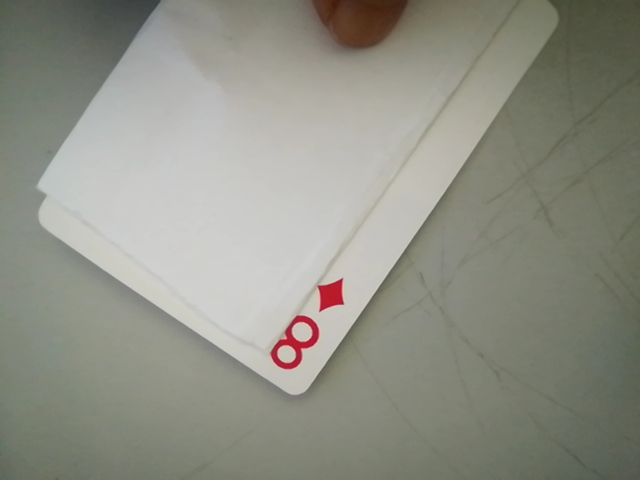fk 8: (261, 276, 349, 387)
